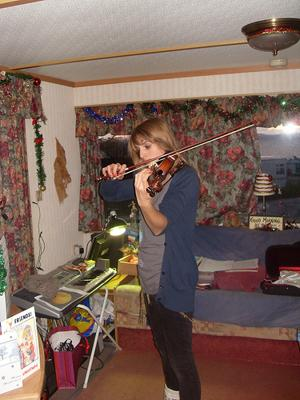person: (102, 120, 202, 400)
